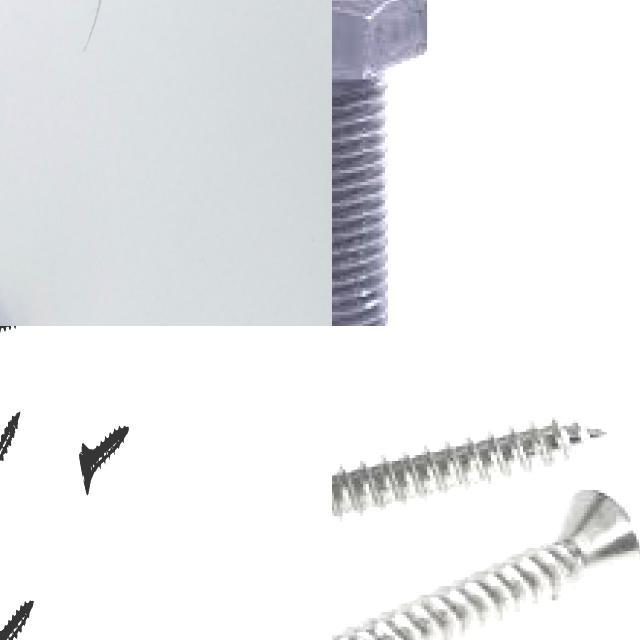Screw: (332, 490, 640, 640), (332, 0, 430, 326), (332, 420, 610, 523), (79, 425, 129, 494), (0, 600, 33, 640), (0, 411, 20, 462)
